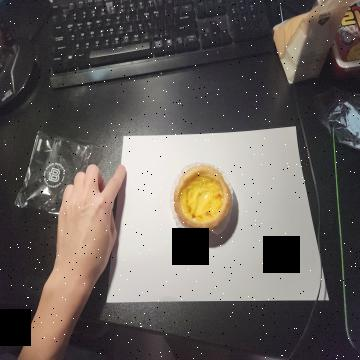EggTart: (172, 164, 232, 233)
